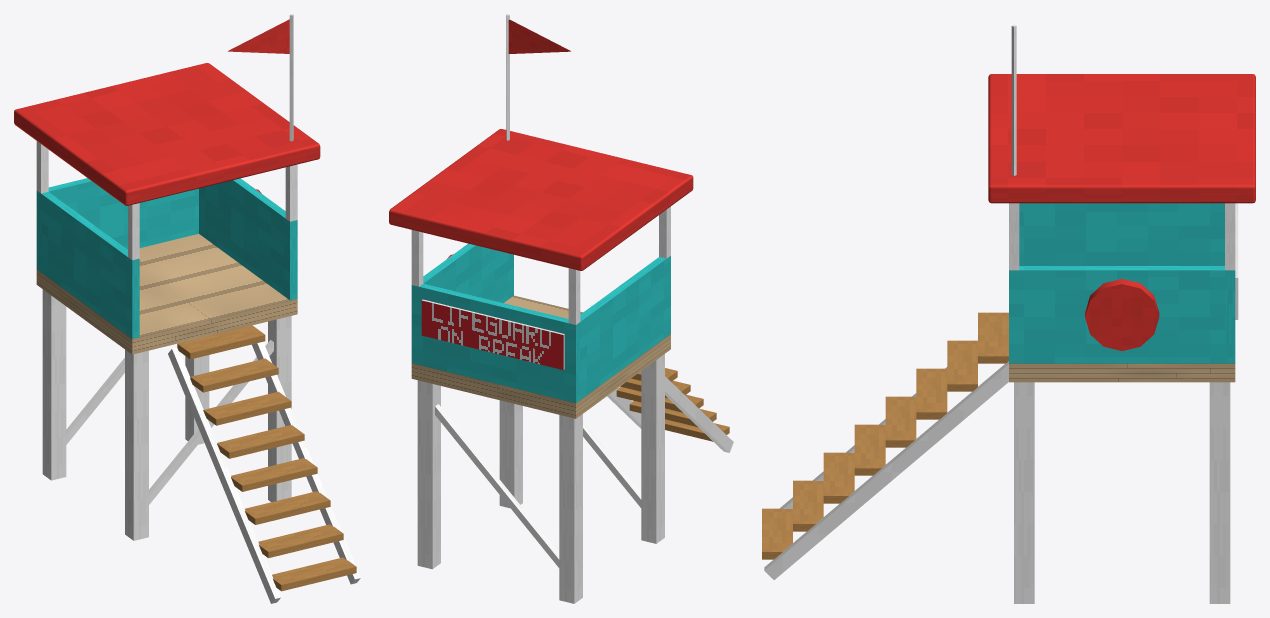
File: p_ai_lifeguard.glb
The picture shows the model from 3 angles, left to right: view 1: azimuth 30°, elevation 25°; view 2: azimuth 150°, elevation 25°; view 3: azimuth 270°, elevation 25°; orthographic projection. The views are drawn at different scales.
Visible parts, largest first — view 1: p_ai_lifeguard_lod0; view 2: p_ai_lifeguard_lod0; view 3: p_ai_lifeguard_lod0.
Part boxes in pixels (<box>): p_ai_lifeguard_lod0: <box>14,14,360,603</box>; p_ai_lifeguard_lod0: <box>389,14,733,603</box>; p_ai_lifeguard_lod0: <box>762,25,1255,603</box>.
Size of what is drawn, in the model's own units: 2.6 by 6.2 by 4.8.
Materials: 1 (1 with a texture image).
